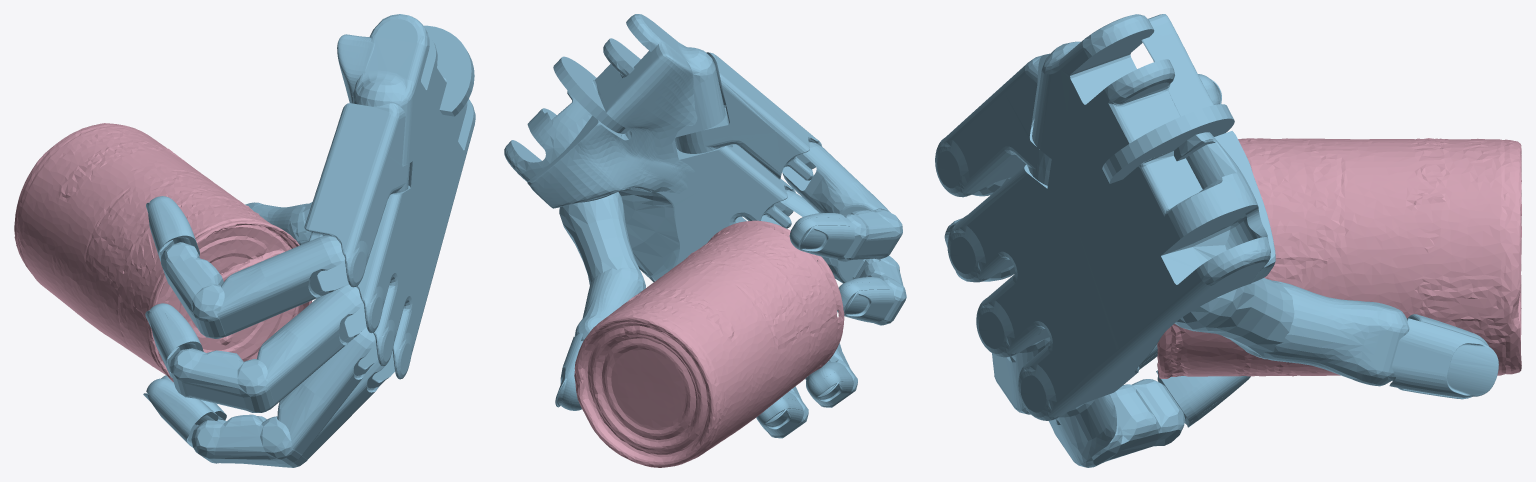
3 views of the same model, side by side, from view 1: azimuth 30°, elevation 25°; view 2: azimuth 150°, elevation 25°; view 3: azimuth 270°, elevation 25° (orthographic). The views are drawn at different scales.
Parts seen in each view (by area): view 1: world; view 2: world; view 3: world.
Boxes of the visible parts, x1=… form: world: x1=14, y1=14, x2=475, y2=467; world: x1=504, y1=14, x2=906, y2=467; world: x1=935, y1=14, x2=1521, y2=467.
Size of the model in its own units: 0.153 by 0.1636 by 0.1635.
